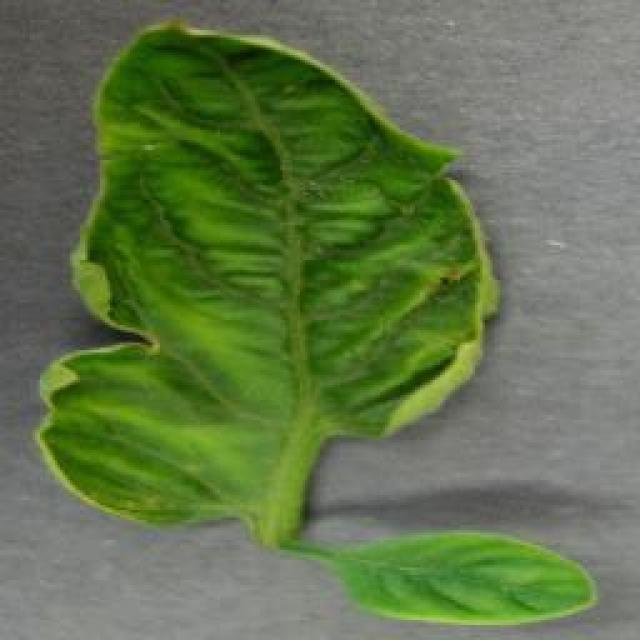Tomato yellow virus leaf: (42, 20, 504, 520), (338, 528, 598, 628)
